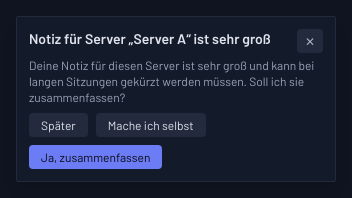
Test case: NoteShrinkSuggestionToast (Spec 0079) › T2: 'Später' unterdrückt weitere Events für denselben Server, andere Server bleiben unberührt
The width and height of the screenshot is (352, 198).
Expected: the text "Notiz für Server „Server A“ ist sehr groß" is shown, x1=29 y1=29 x2=271 y2=49
Click the button "Später" at (58, 125), box x1=29 y1=113 x2=88 y2=137
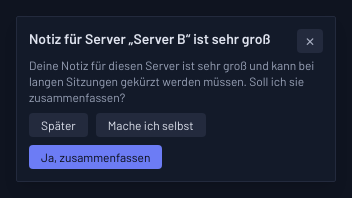
Expected: the text "Notiz für Server „Server A“ ist sehr groß" is gone
Expected: the text "Notiz für Server „Server B“ ist sehr groß" is shown, x1=29 y1=29 x2=270 y2=49
